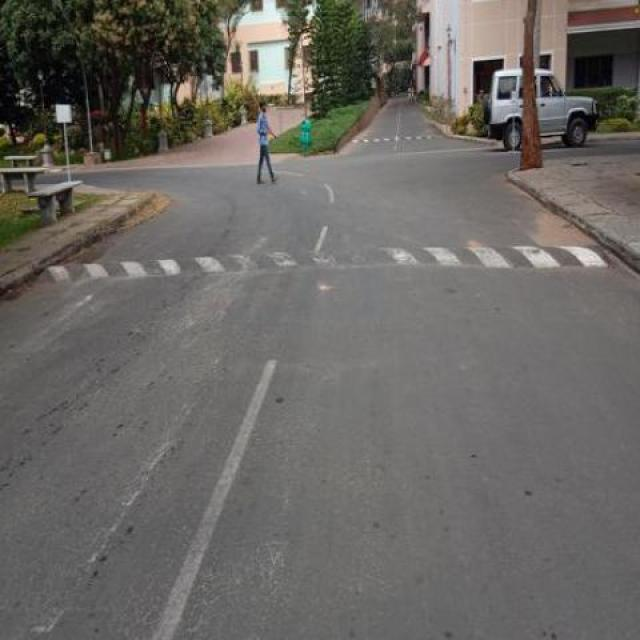Speed Bump: (36, 242, 616, 282)
